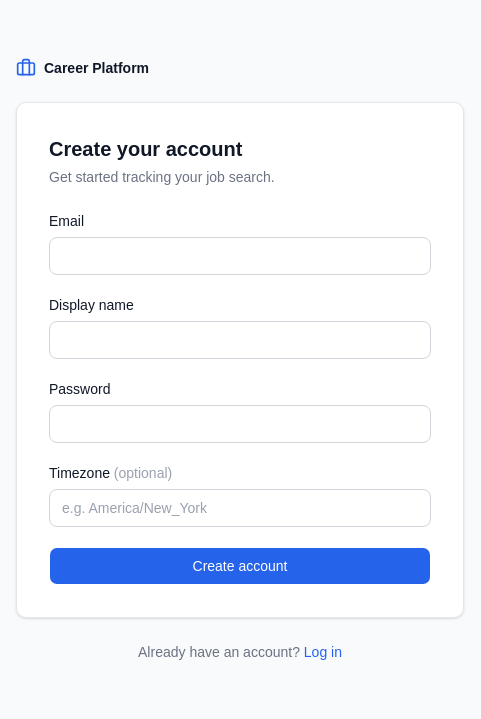
Test: RegisterPage › shows an inline error and keeps the form populated on a backend 400 VALIDATION_ERROR
Type "ada@example.com" into the field labelled "Email".
click(240, 256); type("ada@example.com")  # box [49, 237, 431, 275]
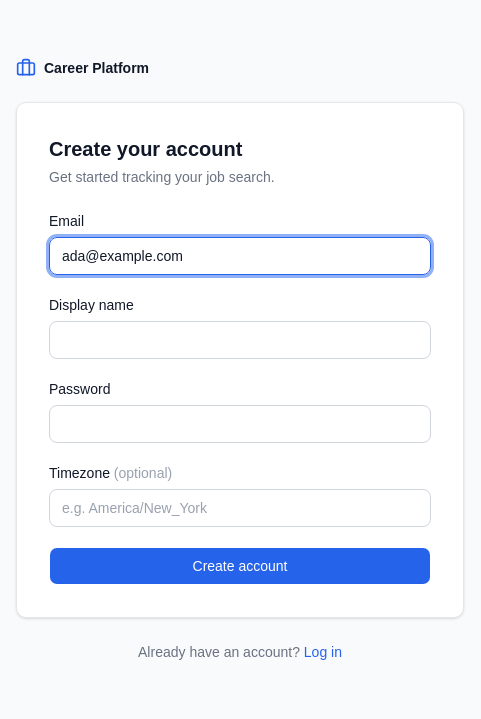
Type "Ada Lovelace" into the field labelled "Display name".
click(240, 340); type("Ada Lovelace")  # box [49, 321, 431, 359]
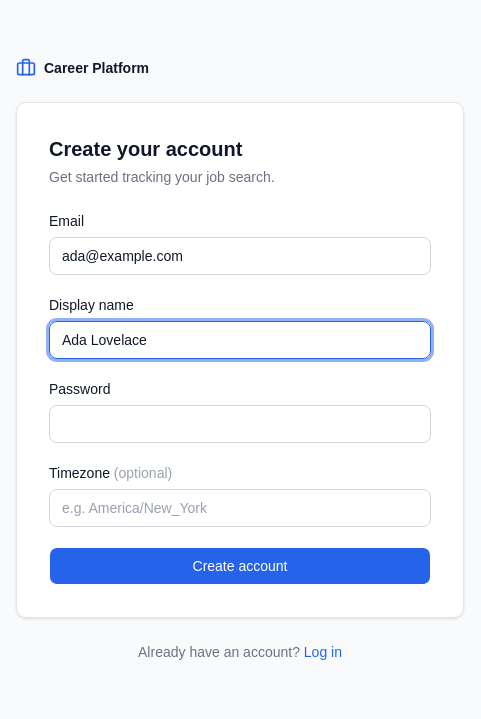
Type "correct-password-123" into the password field labelled "Password".
click(240, 424); type("correct-password-123")  # box [49, 405, 431, 443]
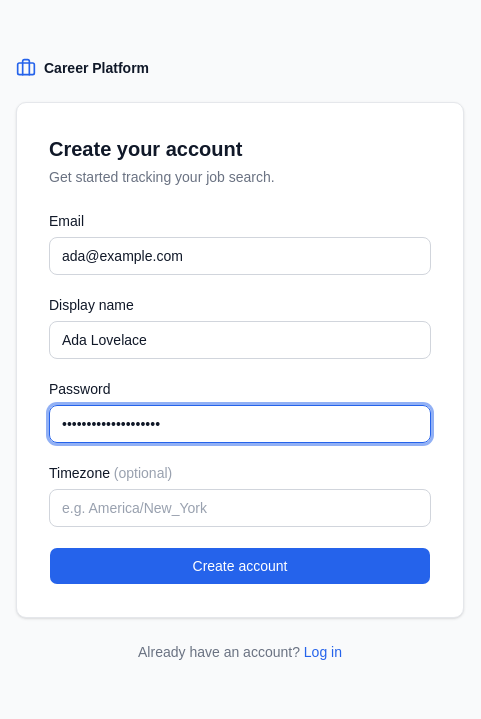
Click the button "Create account".
click(240, 566)  # box [49, 547, 431, 585]
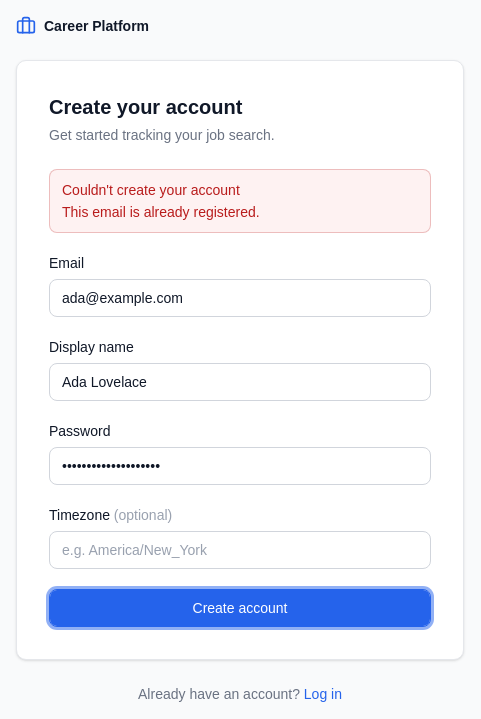
Result: the text "This email is already registered." is shown at [62, 204, 260, 220]
